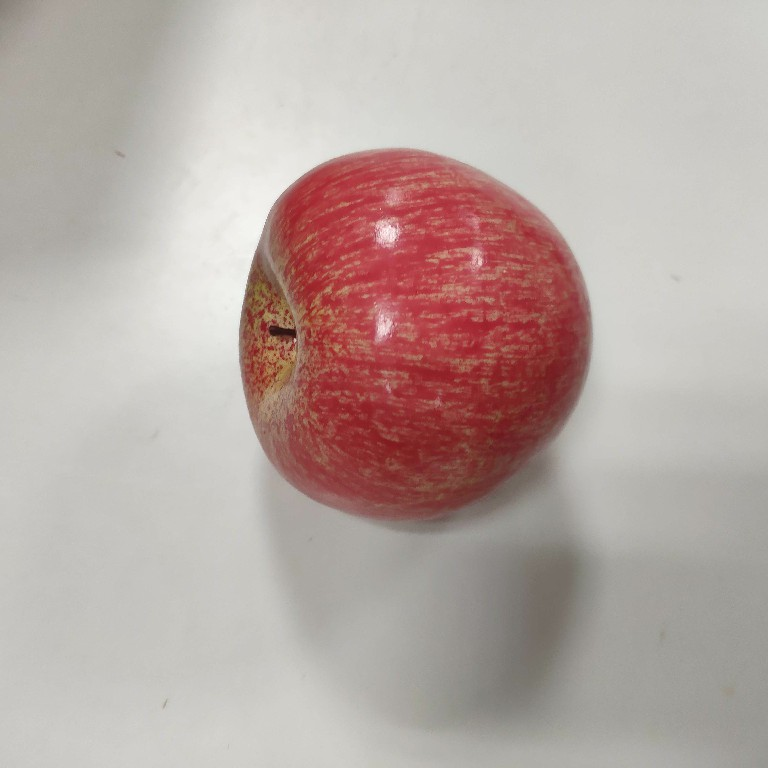fruit_apple: (231, 140, 599, 529)
